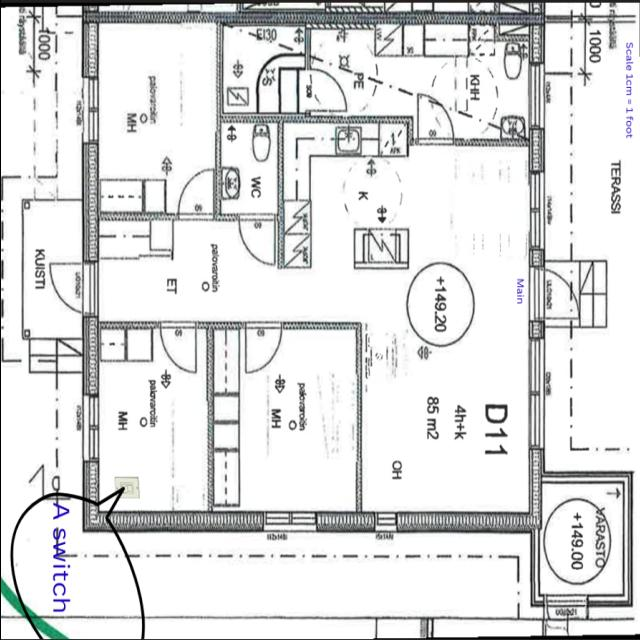main: (517, 250, 582, 334)
switch: (112, 471, 144, 503)
wall: (80, 507, 268, 538), (391, 505, 547, 541), (77, 138, 103, 269), (524, 441, 548, 539), (311, 508, 377, 542), (77, 314, 101, 402), (78, 456, 102, 538), (77, 15, 103, 85), (527, 124, 548, 180)
